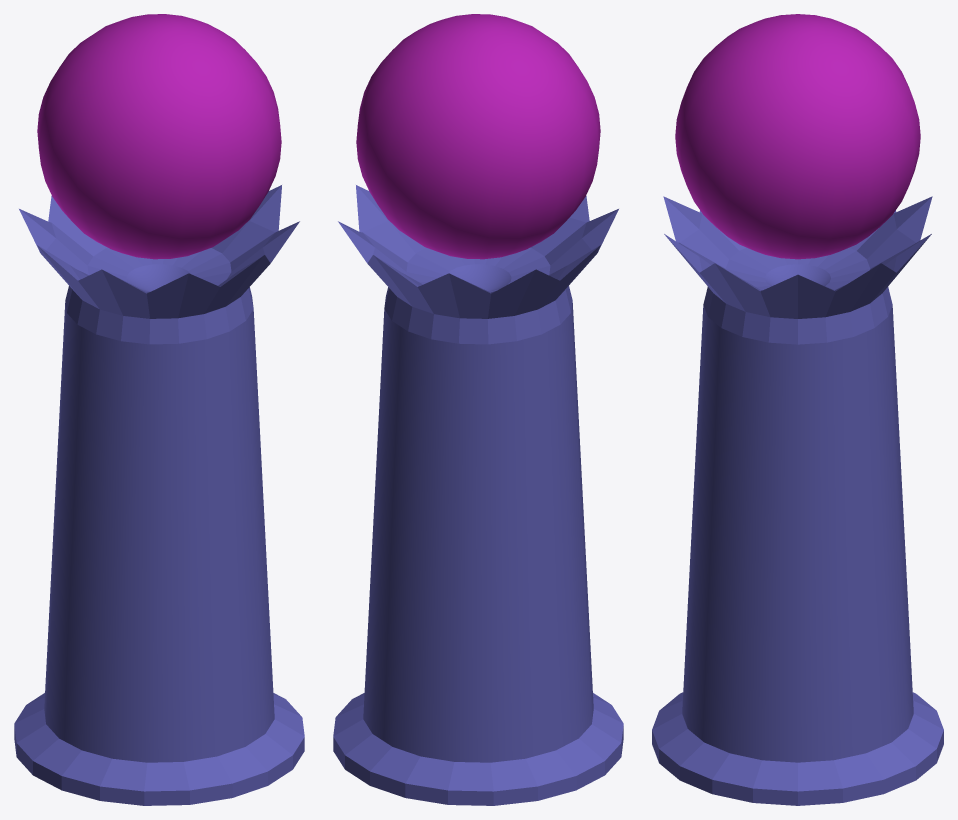
Rendered from mage_tower (1).fbx.
3 views of the same model, side by side, from view 1: azimuth 30°, elevation 25°; view 2: azimuth 150°, elevation 25°; view 3: azimuth 270°, elevation 25° (orthographic).
Parts seen in each view (by area): view 1: pCylinder1, pSphere1; view 2: pCylinder1, pSphere1; view 3: pCylinder1, pSphere1.
Boxes of the visible parts, x1,y1,x2,y2 form: pCylinder1: (14, 185, 304, 805); pSphere1: (37, 14, 281, 259); pCylinder1: (333, 185, 623, 805); pSphere1: (356, 14, 600, 259); pCylinder1: (652, 196, 943, 805); pSphere1: (675, 14, 920, 259).
Bounding box in the file's own units: 5.55 × 15.07 × 5.55.
